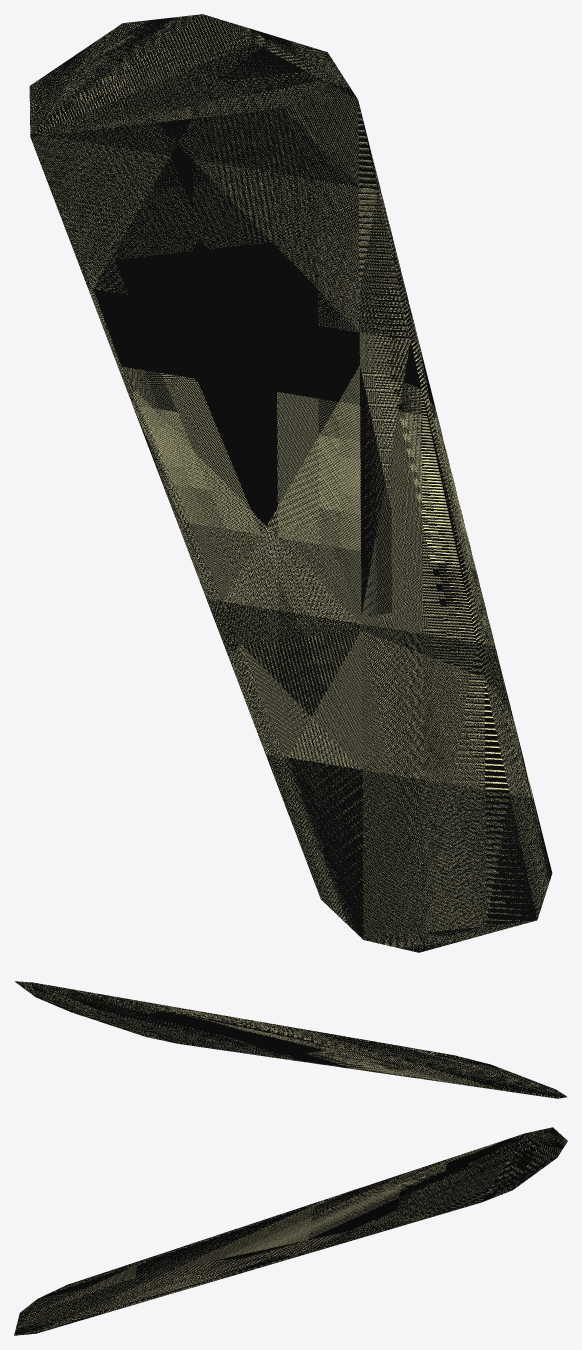
File: original-33.obj
3 views of the same model, one above another, from view 1: azimuth 30°, elevation 25°; view 2: azimuth 150°, elevation 25°; view 3: azimuth 270°, elevation 25° (orthographic). The views are drawn at different scales.
Parts seen in each view (by area): view 1: mesh50/mesh50-geometry#mesh50-geometry; view 2: mesh50/mesh50-geometry#mesh50-geometry; view 3: mesh50/mesh50-geometry#mesh50-geometry.
Part boxes in pixels (bbox=[...]): mesh50/mesh50-geometry#mesh50-geometry: bbox=[29, 14, 552, 952]; mesh50/mesh50-geometry#mesh50-geometry: bbox=[14, 981, 567, 1098]; mesh50/mesh50-geometry#mesh50-geometry: bbox=[14, 1127, 567, 1335].
Size of the model in its own units: 0.0263 by 0.0259 by 0.0557.
